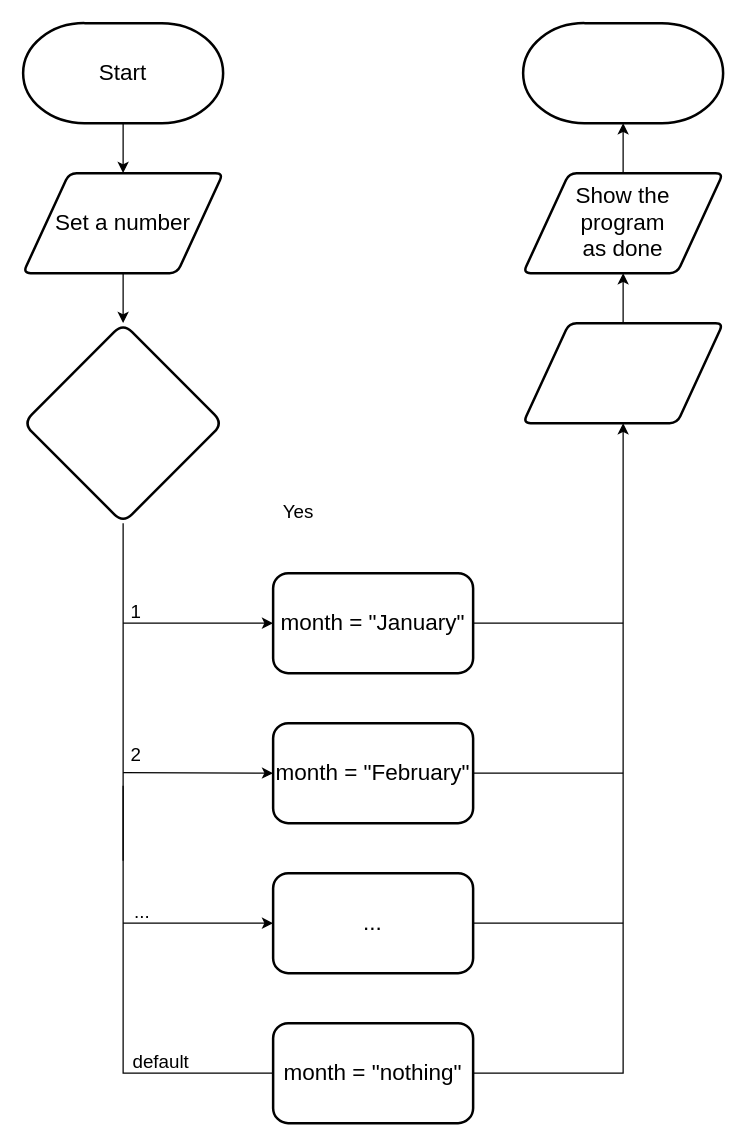
Some shapes in this 745 by 1145 pixel diagram are drawn without their labels. The box of each missing label's shape, as (x1, y1, x2, y2) in pixels:
month_number: (21, 321, 224, 524)
Show the month that the number is associated with: (521, 321, 724, 424)
Stop: (521, 21, 724, 124)
